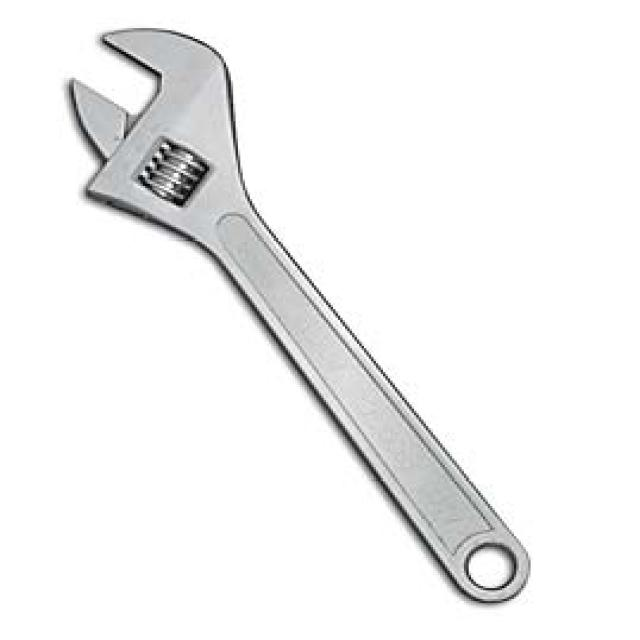wrench: (52, 9, 446, 442)
